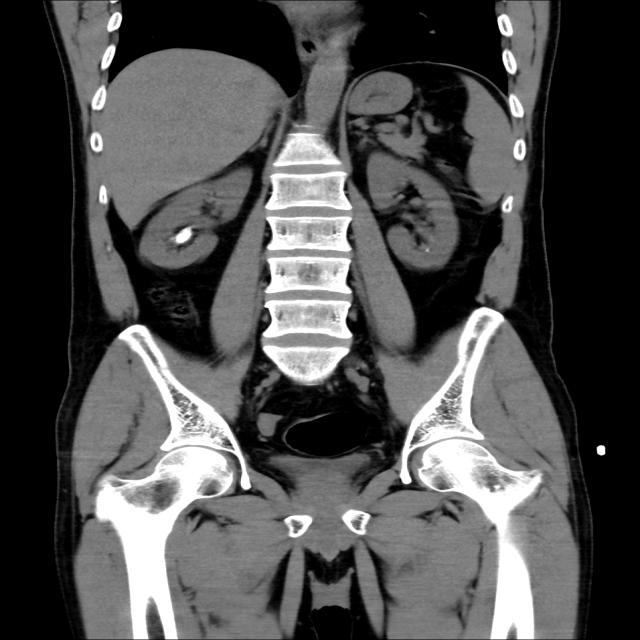kidneystone: (175, 226, 192, 245), (423, 248, 432, 252)
